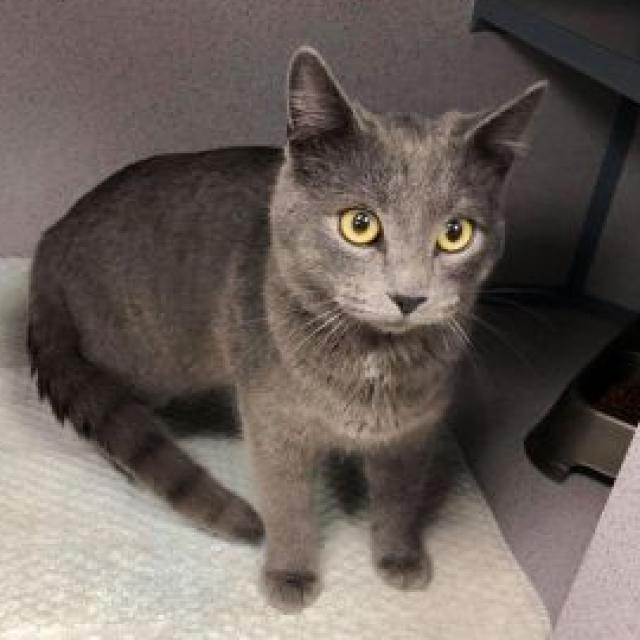Russian Blue: (23, 44, 550, 612)
